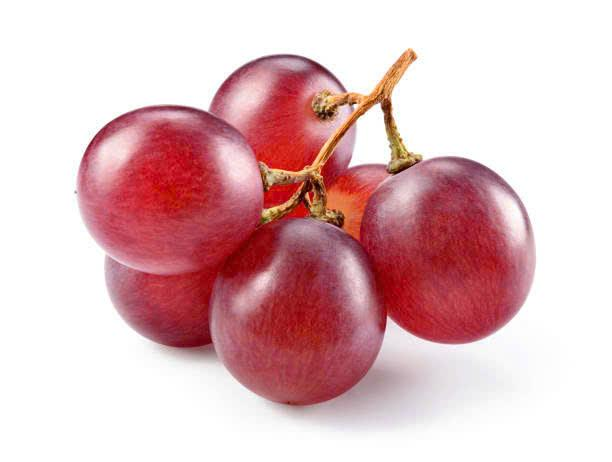grape: (323, 166, 556, 346), (78, 102, 284, 248), (220, 227, 379, 409)
